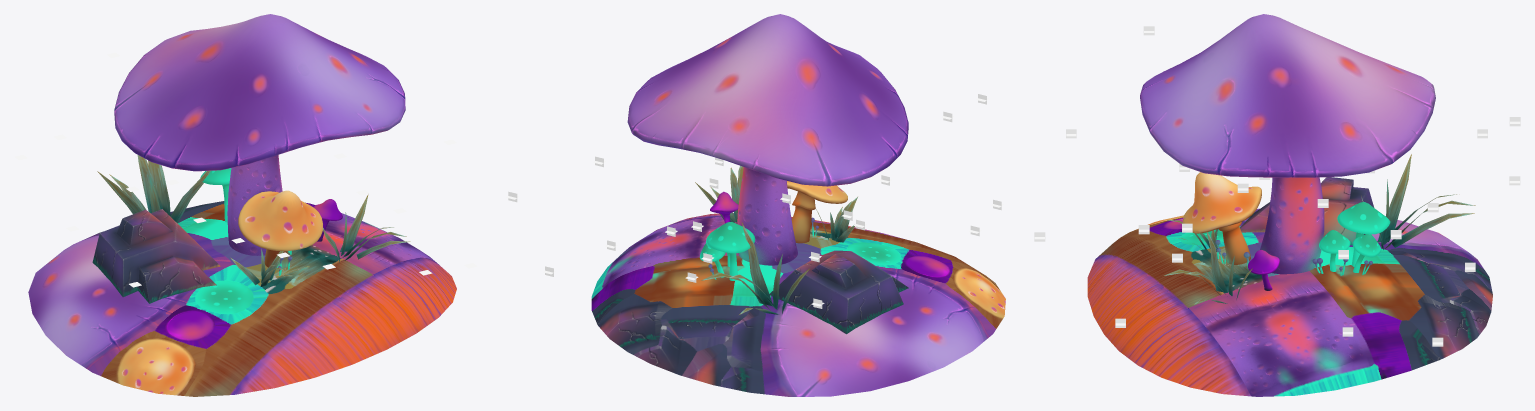
File: mushroom.glb
3 renders of one model, left to right at view 1: azimuth 30°, elevation 25°; view 2: azimuth 150°, elevation 25°; view 3: azimuth 270°, elevation 25°, orthographic. The views are drawn at different scales.
Parts seen in each view (by area): view 1: Plane, Circle, Cube.001, Circle.001, Plane.002, Cube, Plane.003, Plane.004, Plane.001, Circle.002, Circle.005; view 2: Plane, Circle, Cube.001, Plane.004, Circle.001, Plane.002, Circle.002, Cube, Plane.001, Plane.003, Circle.005; view 3: Plane, Circle, Circle.001, Plane.004, Plane.002, Cube.001, Circle.002, Plane.003, Circle.005, Cube, Circle.004, Circle.006.
Part boxes in pixels (bbox=[...]): Plane: bbox=[28, 201, 456, 396]; Circle: bbox=[114, 14, 405, 255]; Cube.001: bbox=[92, 209, 220, 303]; Circle.001: bbox=[238, 190, 322, 269]; Plane.002: bbox=[97, 155, 210, 223]; Cube: bbox=[116, 209, 172, 245]; Plane.003: bbox=[323, 194, 410, 262]; Plane.004: bbox=[14, 52, 477, 287]; Plane.001: bbox=[230, 248, 292, 286]; Circle.002: bbox=[200, 168, 231, 222]; Circle.005: bbox=[313, 199, 342, 241]; Plane: bbox=[591, 213, 1005, 396]; Circle: bbox=[627, 14, 908, 265]; Cube.001: bbox=[769, 250, 908, 334]; Plane.004: bbox=[506, 94, 1003, 308]; Circle.001: bbox=[787, 181, 847, 243]; Plane.002: bbox=[701, 222, 809, 314]; Circle.002: bbox=[706, 222, 755, 280]; Cube: bbox=[812, 254, 865, 288]; Plane.001: bbox=[816, 197, 857, 242]; Plane.003: bbox=[695, 165, 743, 223]; Circle.005: bbox=[710, 191, 738, 223]; Plane: bbox=[1087, 208, 1492, 396]; Circle: bbox=[1140, 14, 1435, 274]; Circle.001: bbox=[1182, 172, 1261, 264]; Plane.004: bbox=[1034, 26, 1520, 346]; Plane.002: bbox=[1361, 154, 1475, 249]; Cube.001: bbox=[1240, 187, 1374, 245]; Circle.002: bbox=[1337, 202, 1390, 266]; Plane.003: bbox=[1163, 232, 1252, 304]; Circle.005: bbox=[1248, 250, 1279, 290]; Cube: bbox=[1320, 177, 1353, 200]; Circle.004: bbox=[1319, 230, 1350, 271]; Circle.006: bbox=[1352, 234, 1381, 272].
Size of the model in its own units: 4.37 by 3.12 by 4.49.
Materials: 2 (1 with a texture image).
